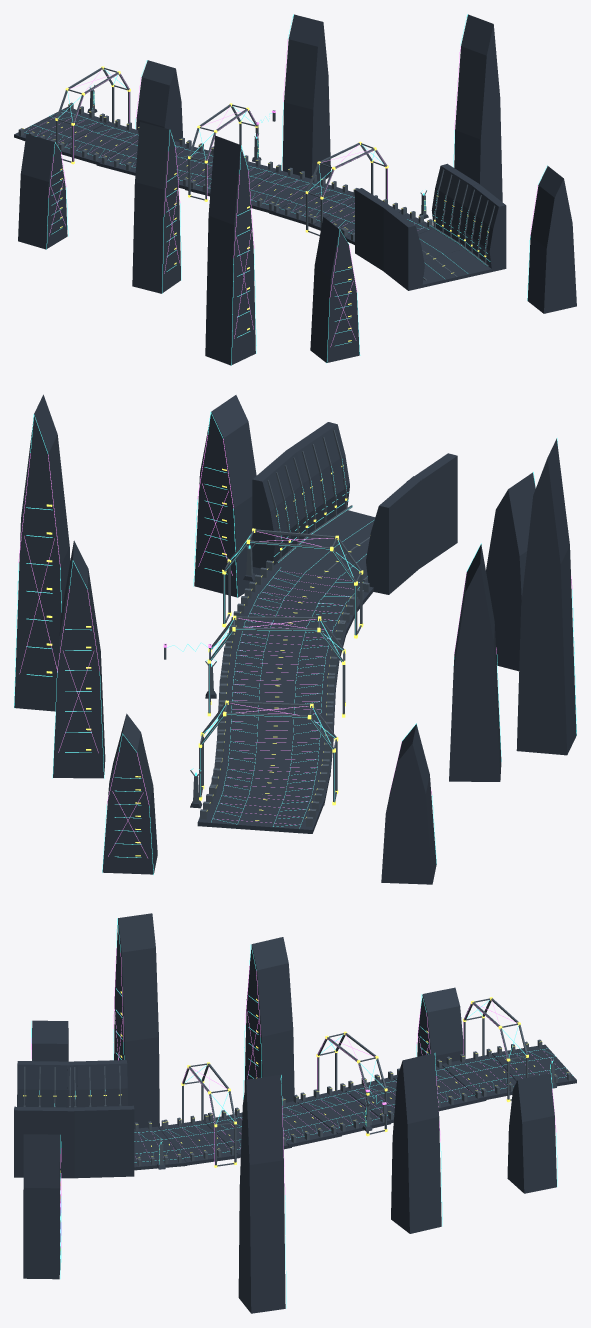
File: route_batch_6.glb
3 views of the same model, one above another, from view 1: azimuth 30°, elevation 25°; view 2: azimuth 150°, elevation 25°; view 3: azimuth 270°, elevation 25° (orthographic). The views are drawn at different scales.
Parts seen in each view (by area): view 1: route_batch_6; view 2: route_batch_6; view 3: route_batch_6.
Boxes of the visible parts, box(x1,y1,x2,y2) form: route_batch_6: box(14, 14, 576, 365); route_batch_6: box(14, 394, 576, 884); route_batch_6: box(14, 913, 576, 1313).
Bounding box in the file's own units: 554 × 292 × 653.
